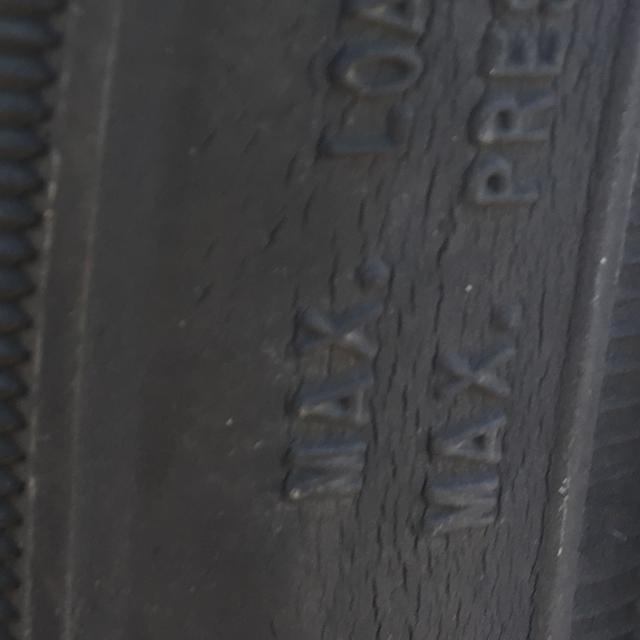Cracks: (225, 0, 625, 640)
